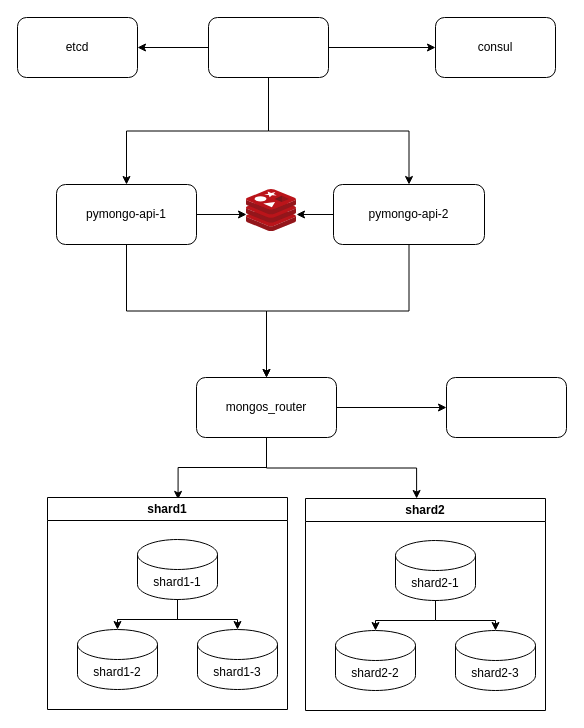
Image size: 584x728. Some labels were removed from this diagram. Each missing label, with the centre of its shape:
"apisix" goes at (x=268, y=47).
"configSrv" goes at (x=506, y=407).
"redis" goes at (x=271, y=210).
